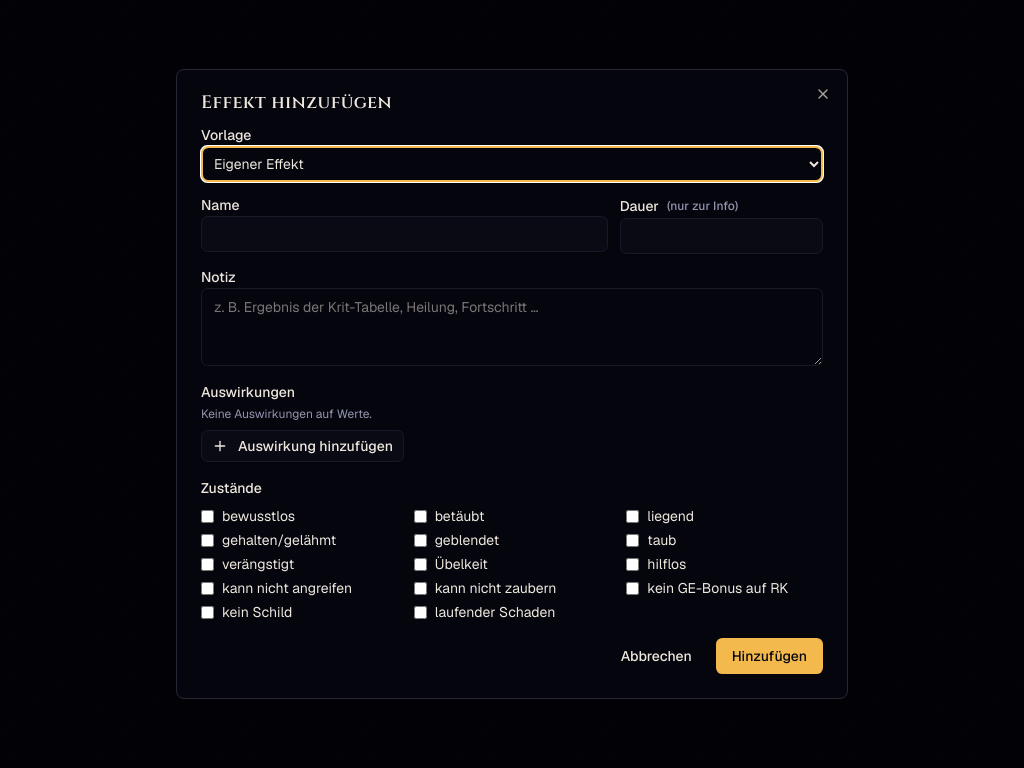
Scenario: EffectDialog › keeps the dialog open and explains a missing approval
The image size is (1024, 768).
Select "✨" in the dropdown labelled "Vorlage" at (512, 164), box [201,146,823,182]
(page scrolled)
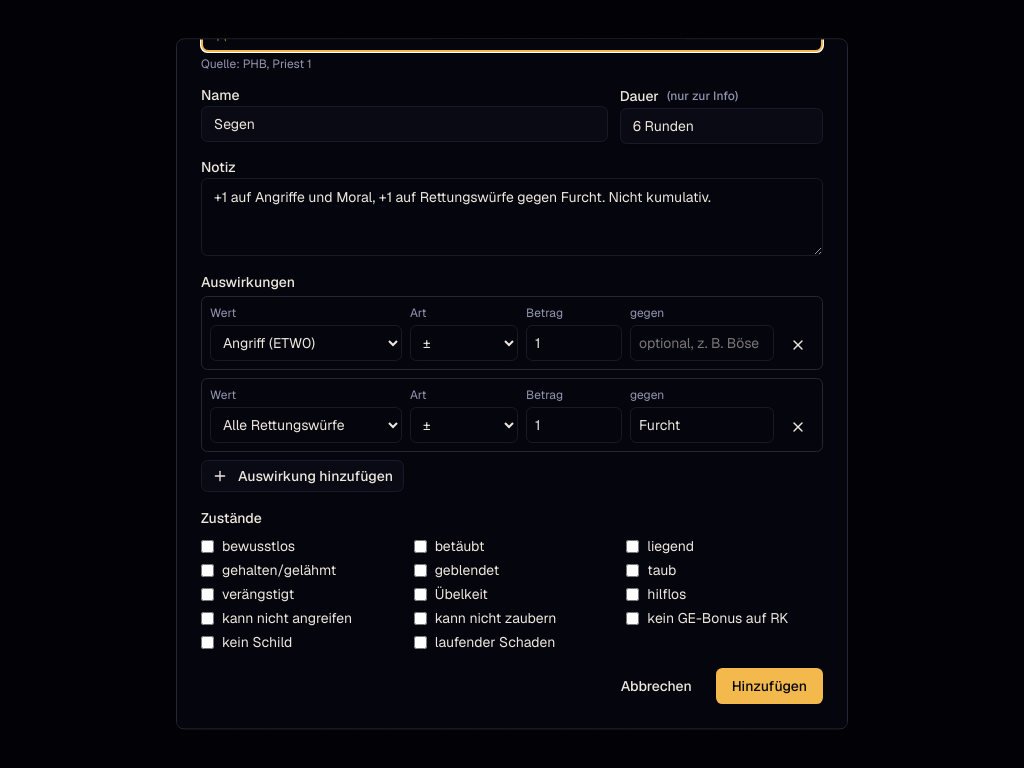
Click the button "Hinzufügen" at (769, 686), box [716,668,823,704]
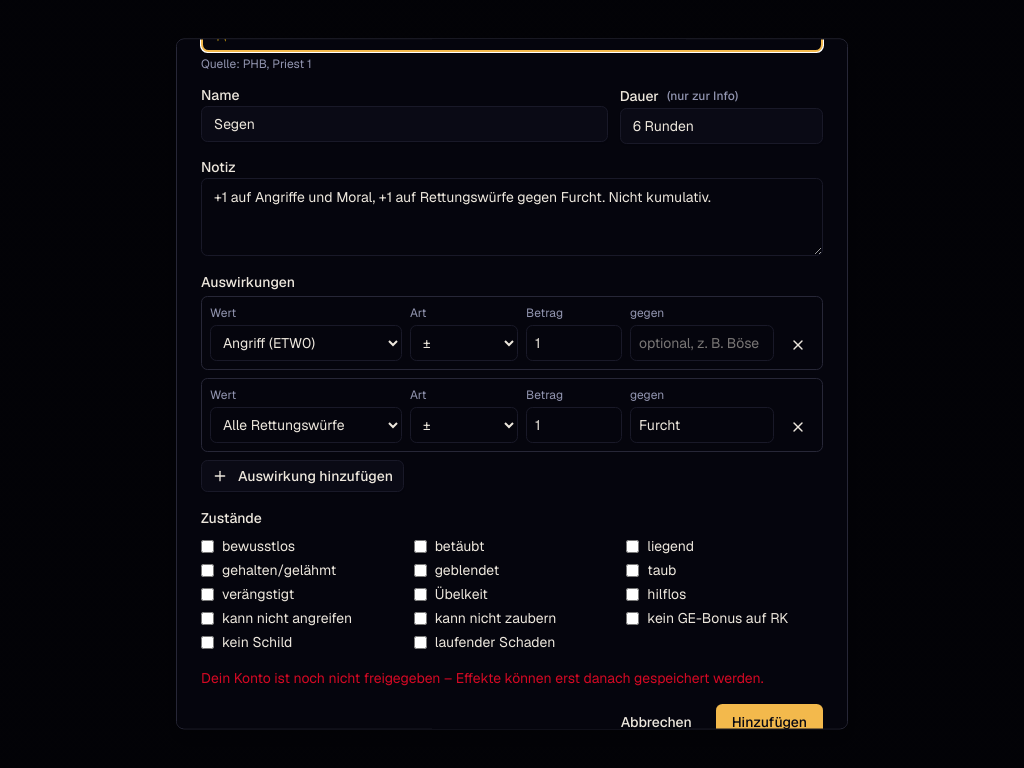
Expected: the text "noch nicht freigegeben" is shown, [201,669,764,687]
